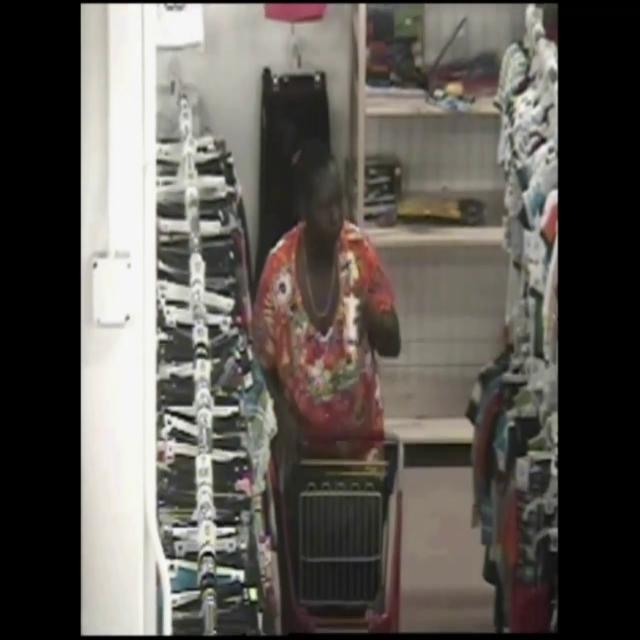Product: (326, 237, 371, 349)
shoplifting: (248, 140, 438, 544)
